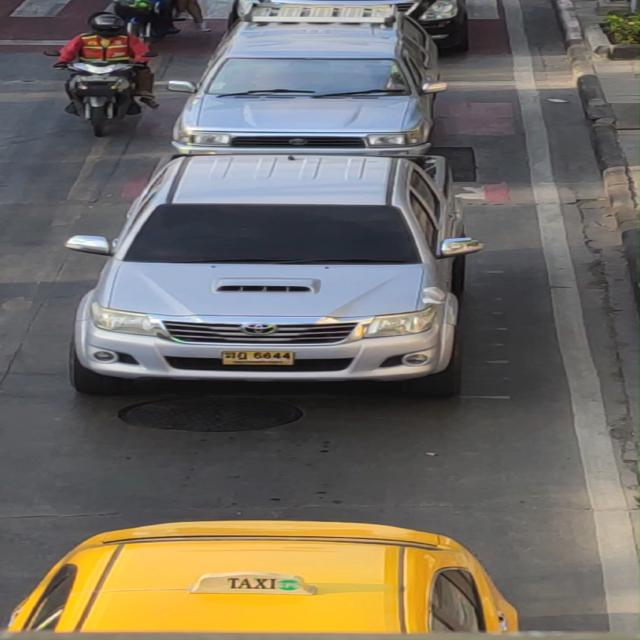car: (53, 142, 505, 393), (181, 24, 474, 154)
